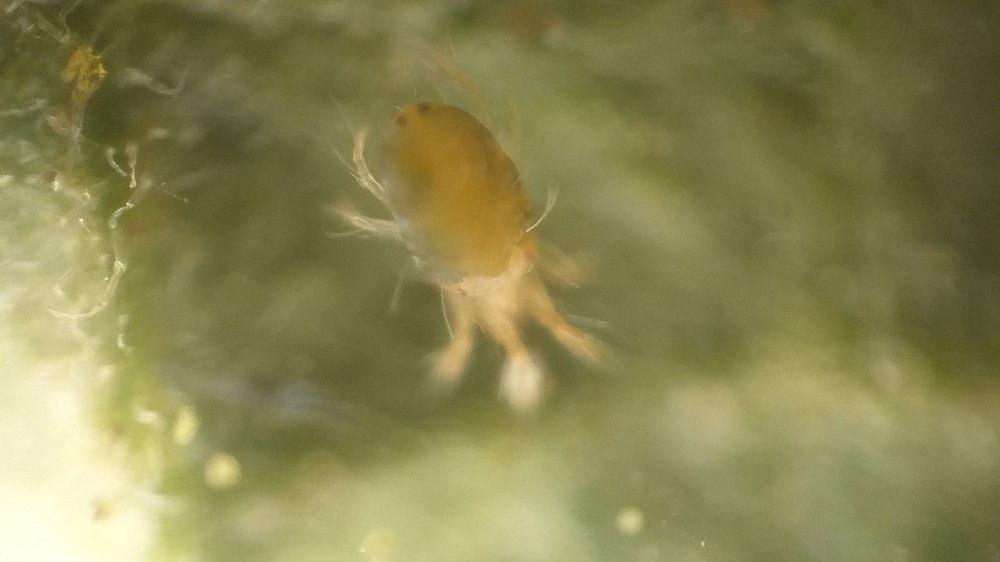Aracnido Rojo: (305, 31, 667, 450)
